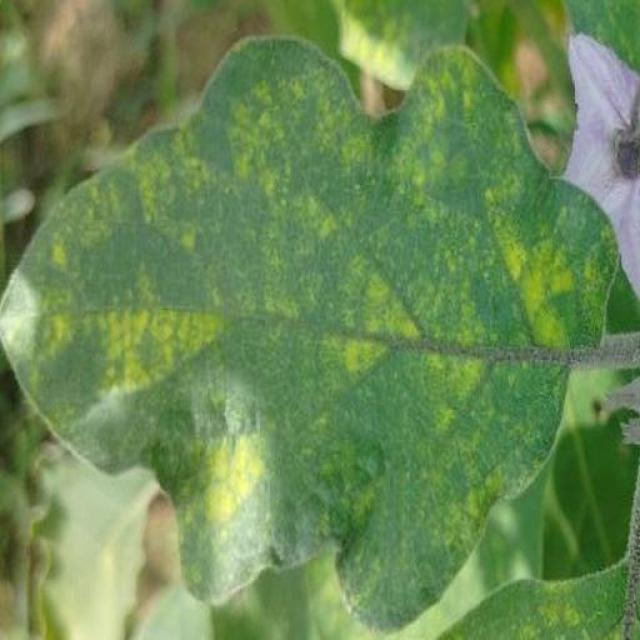leaf_spot: (2, 401, 222, 640), (474, 156, 601, 388), (202, 493, 402, 640), (418, 428, 528, 572), (308, 253, 412, 399), (391, 49, 494, 181), (88, 302, 228, 392), (502, 551, 640, 640), (250, 163, 328, 319), (302, 2, 462, 78), (115, 147, 204, 277), (222, 74, 322, 188), (182, 421, 270, 525), (396, 326, 497, 414), (578, 199, 640, 342), (49, 171, 137, 250), (377, 148, 468, 222), (3, 268, 53, 391), (318, 477, 399, 551), (518, 5, 640, 50), (337, 118, 392, 198), (28, 226, 88, 292), (32, 294, 80, 354), (294, 406, 339, 462), (166, 104, 200, 177)
